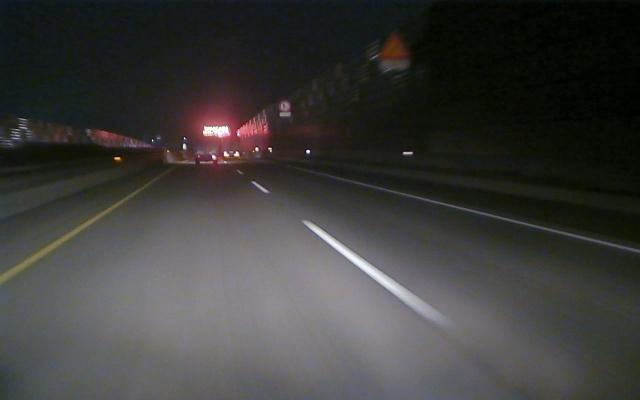lane: (251, 181, 456, 326), (340, 178, 639, 254), (1, 192, 135, 282)
